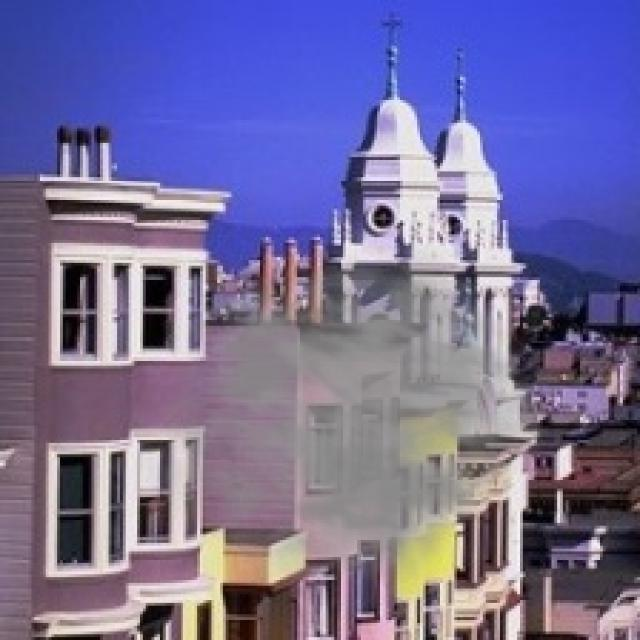Smoke: (128, 245, 546, 606)
